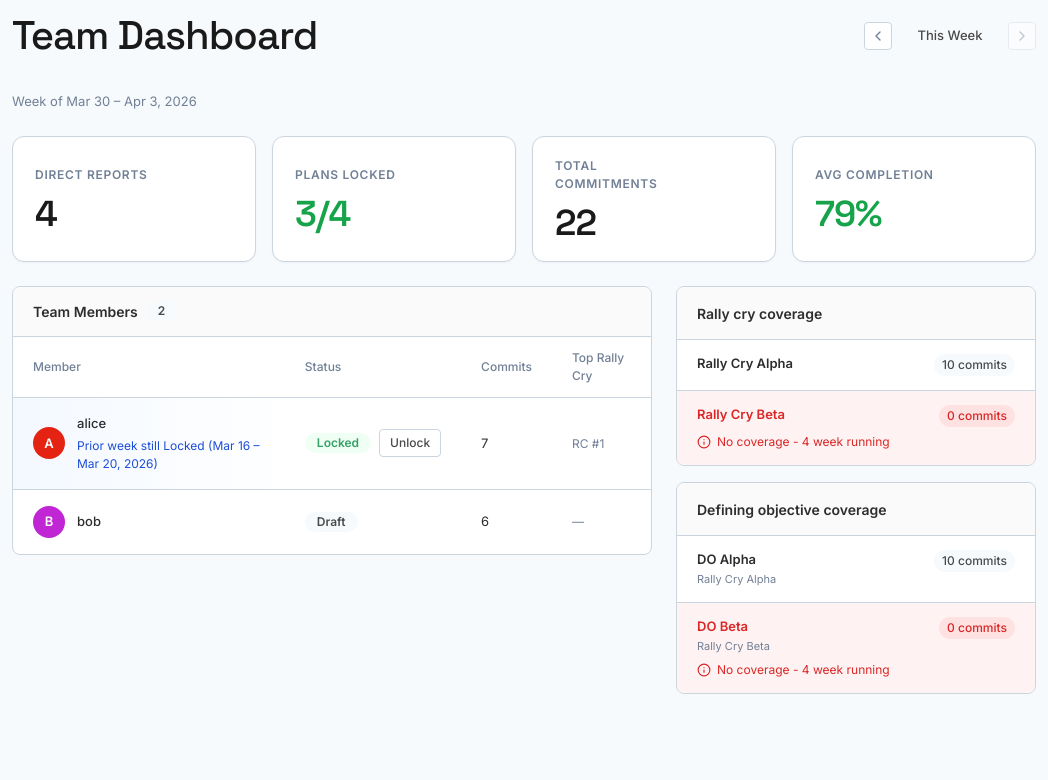
Test: ManagerDashboardPage › shows dismissible error toast when unlock fails
The width and height of the screenshot is (1048, 780).
What coordinates should you click on to do the following:
click the button with test id "unlock-alice"
I would click on:
 (410, 443)
Its box is [379, 429, 441, 457].
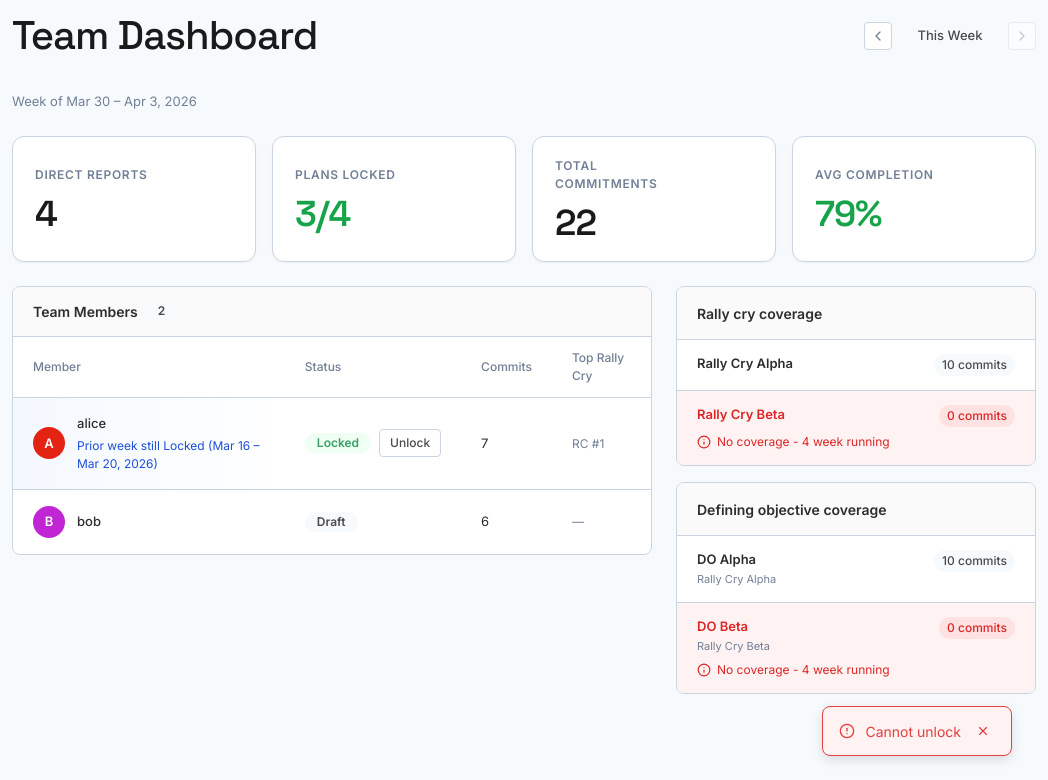
Check: the message "Cannot unlock" is shown, box [822, 706, 1012, 756]
Check: the text "Cannot unlock" is shown, box [865, 720, 961, 742]
What coordinates should you click on to do the following:
click the button named "Dismiss error"
I would click on:
 (983, 731)
Its box is [971, 719, 995, 743].
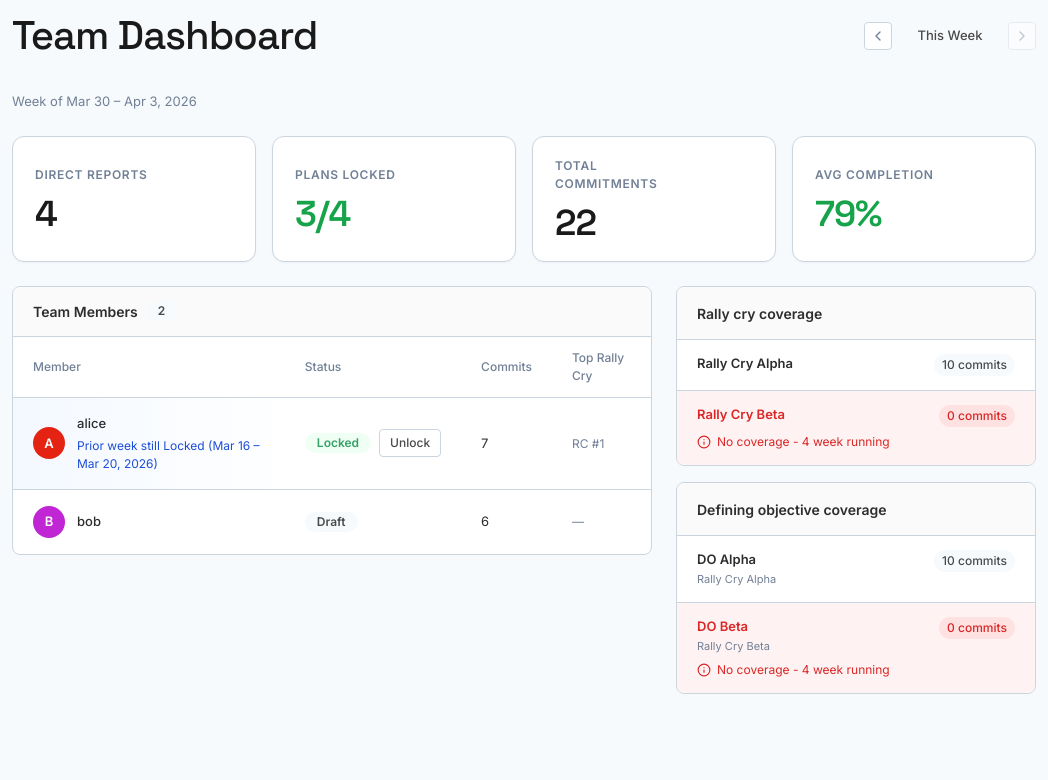
Check: the message with test id "error-toast" is gone
